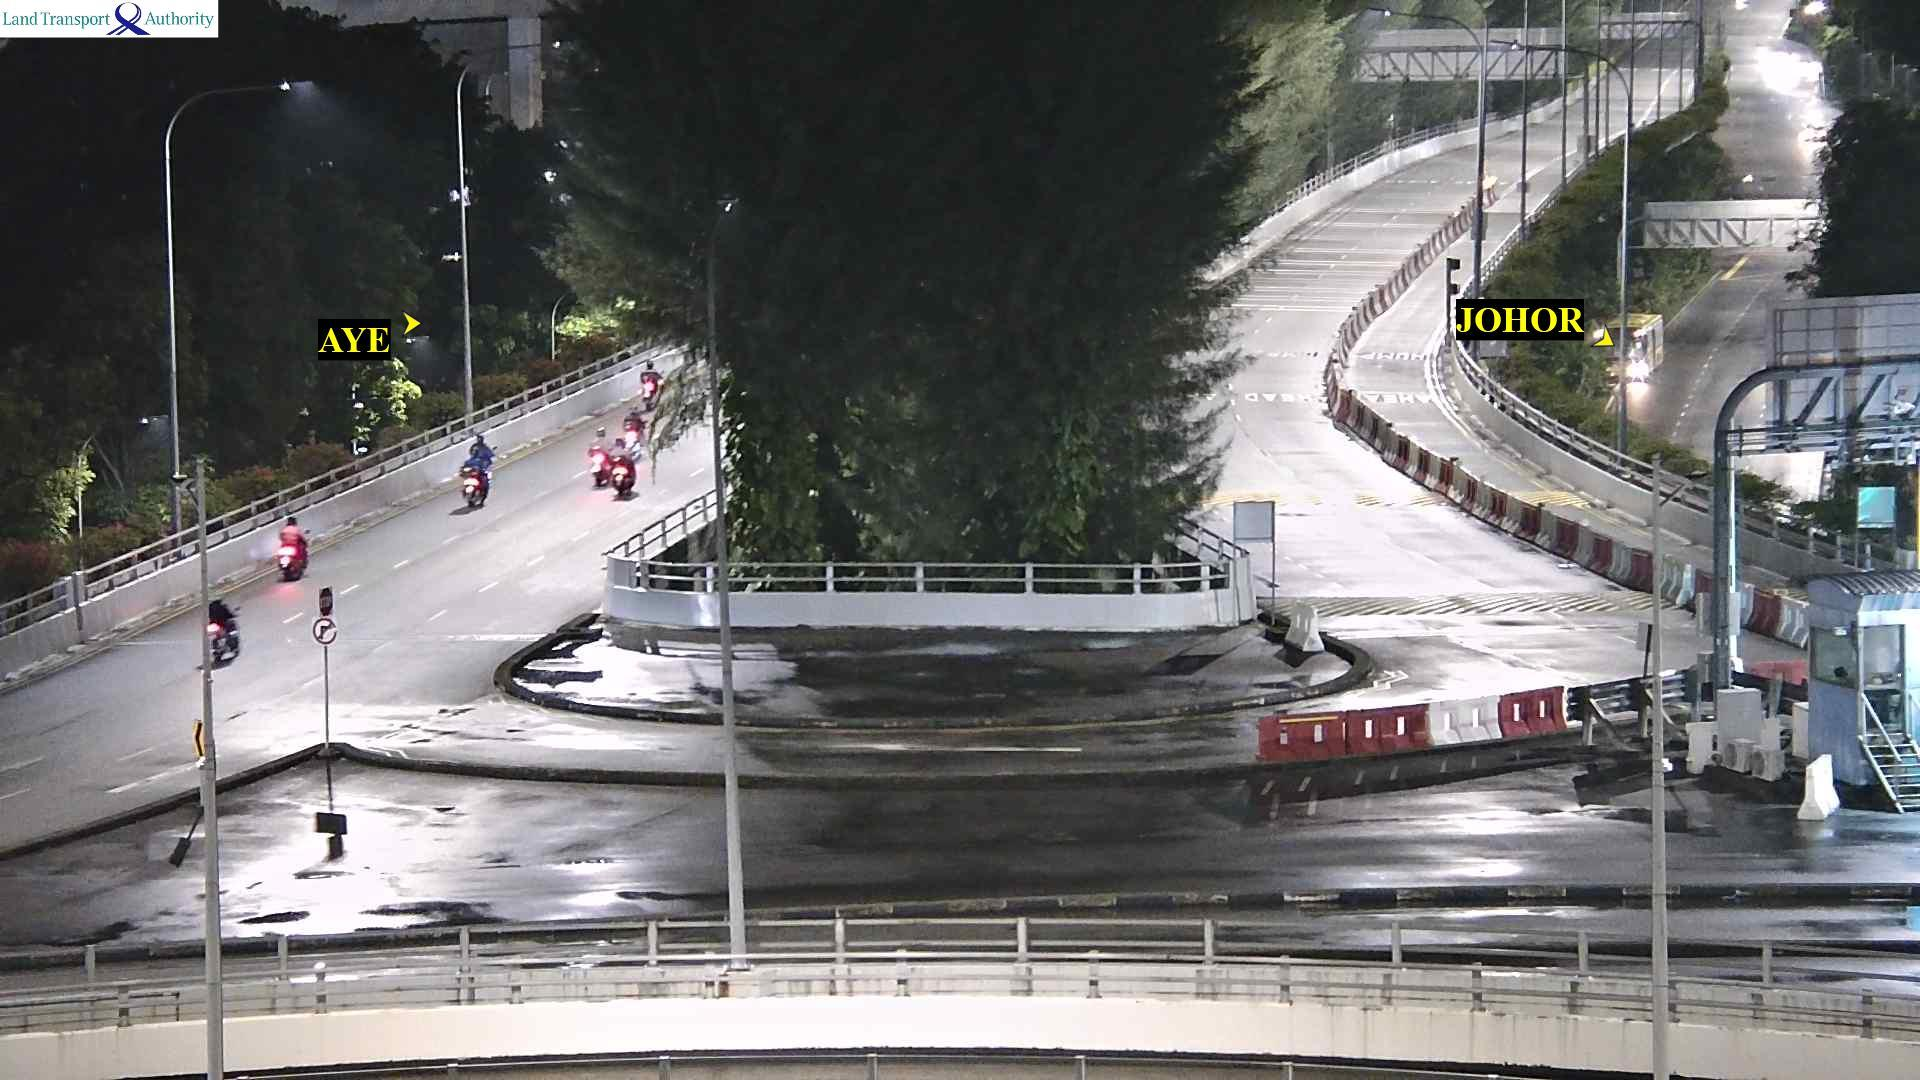vehicle-secondlink-singapore: (585, 423, 637, 495), (459, 426, 492, 506), (276, 516, 309, 578), (207, 599, 240, 657), (636, 363, 659, 411)
